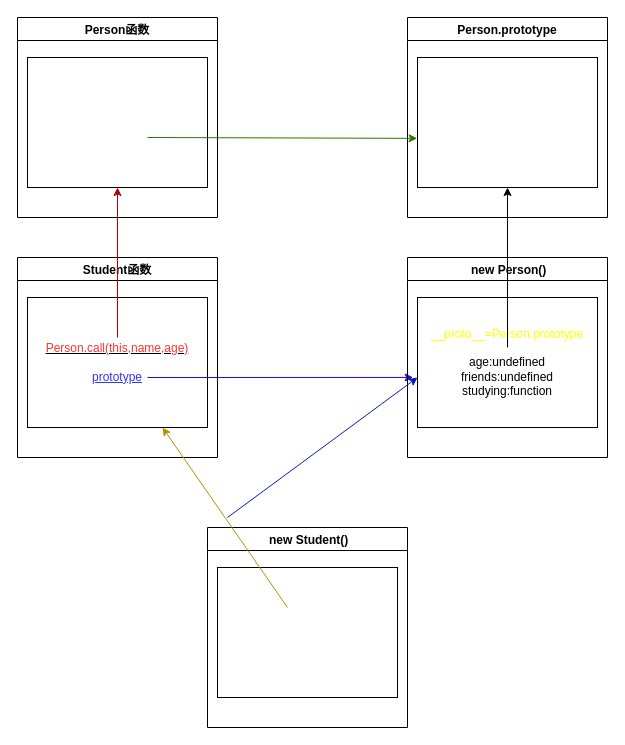
Some shapes in this 625 by 745 pixel diagram are drawn without their labels. The shapes that lost their labels are listed below. From the top down, each one's centre as x and y in pixels, then its label:
At (117,122): "this.name = name this.age = age prototype".
At (507,122): "eating:function running:function".
At (307,632): "__proto__=Student.prototype name:unefined age:undefined friends:undefined".
